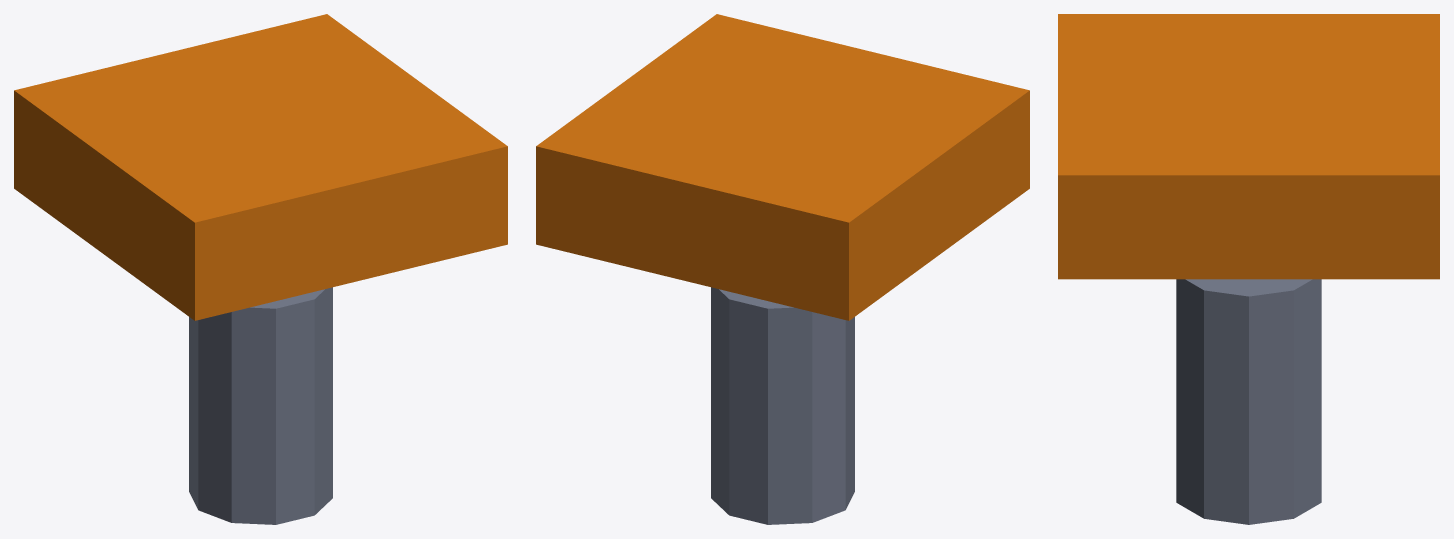
File: spinner.glb
3 views of the same model, side by side, from view 1: azimuth 30°, elevation 25°; view 2: azimuth 150°, elevation 25°; view 3: azimuth 270°, elevation 25° (orthographic). The views are drawn at different scales.
Parts seen in each view (by area): view 1: Bar, Post; view 2: Bar, Post; view 3: Bar, Post.
Part boxes in pixels (x1,y1,x2,y2): Bar: (14, 14, 507, 320); Post: (189, 287, 332, 524); Bar: (536, 14, 1029, 320); Post: (711, 287, 854, 524); Bar: (1058, 14, 1439, 279); Post: (1176, 279, 1321, 524).
Size of the model in its own units: 1 by 1.15 by 1.
